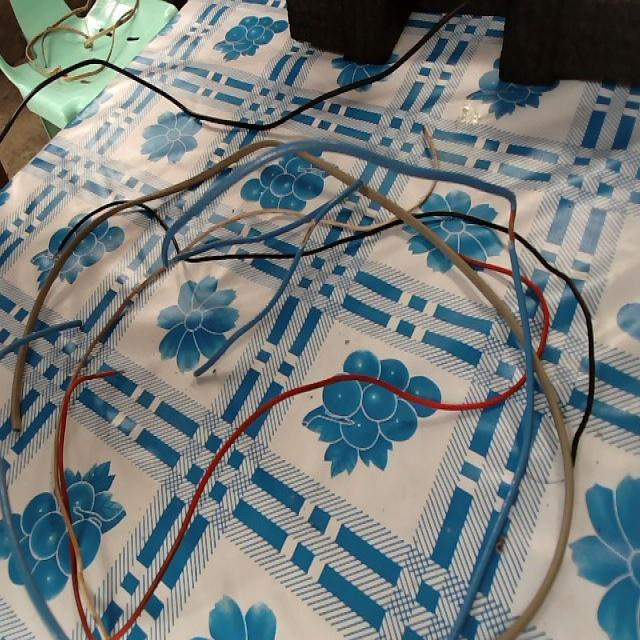-: (504, 204, 520, 249), (300, 216, 317, 249)
